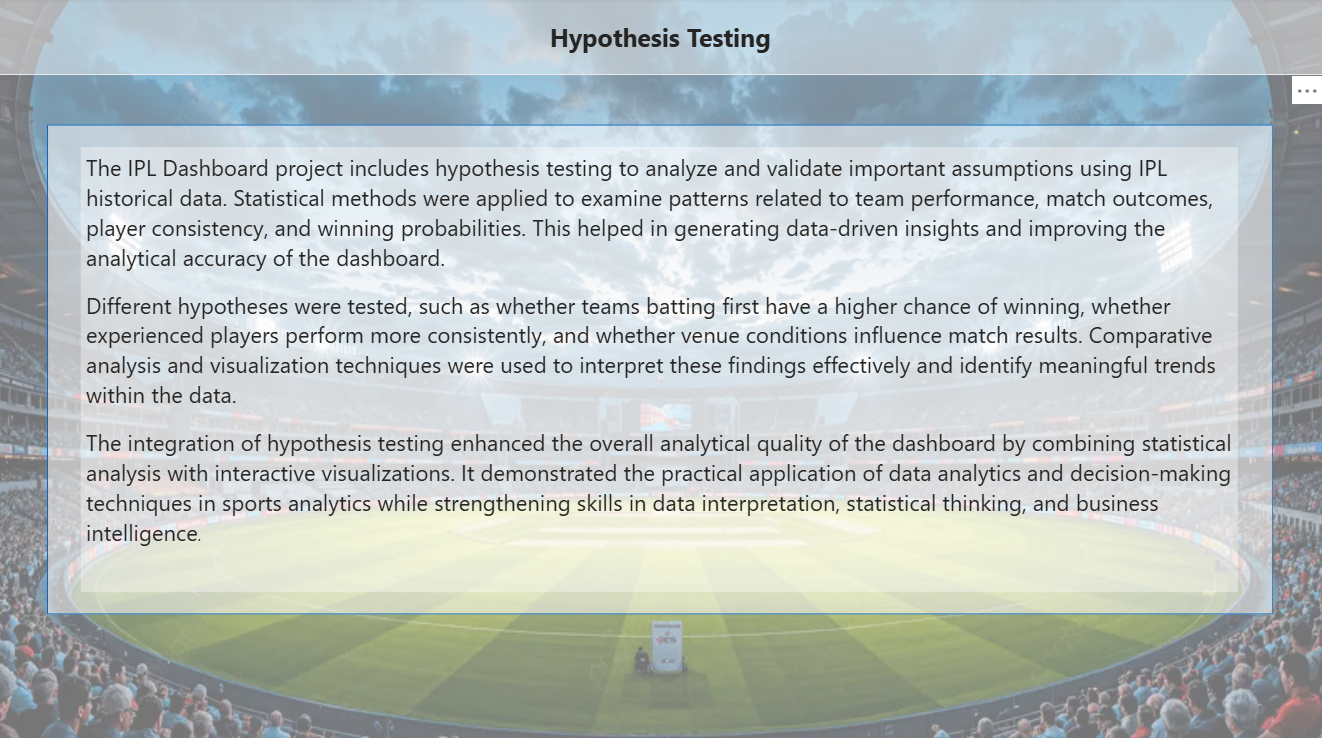

The dashboard page shown, as its layout file describes it:
{"tool":"powerbi","page":{"name":"Hypothesis Testing","canvas":[1280,720],"ordinal":7},"visuals":[{"type":"shape","box":[48.3,123.1,1183.5,472.9],"z":0},{"type":"textbox","box":[0,0,1280,74.8],"z":1},{"type":"textbox","box":[80.8,144.8,1117.2,429.5],"z":2}]}

Visuals, with their boxes in screenshot pixels (x1, y1, x2, y2), scaled from the page's 1280x720 canvas onto the 1322x738 screenshot:
shape: (50, 126, 1272, 611)
textbox: (0, 0, 1321, 77)
textbox: (83, 148, 1237, 589)
